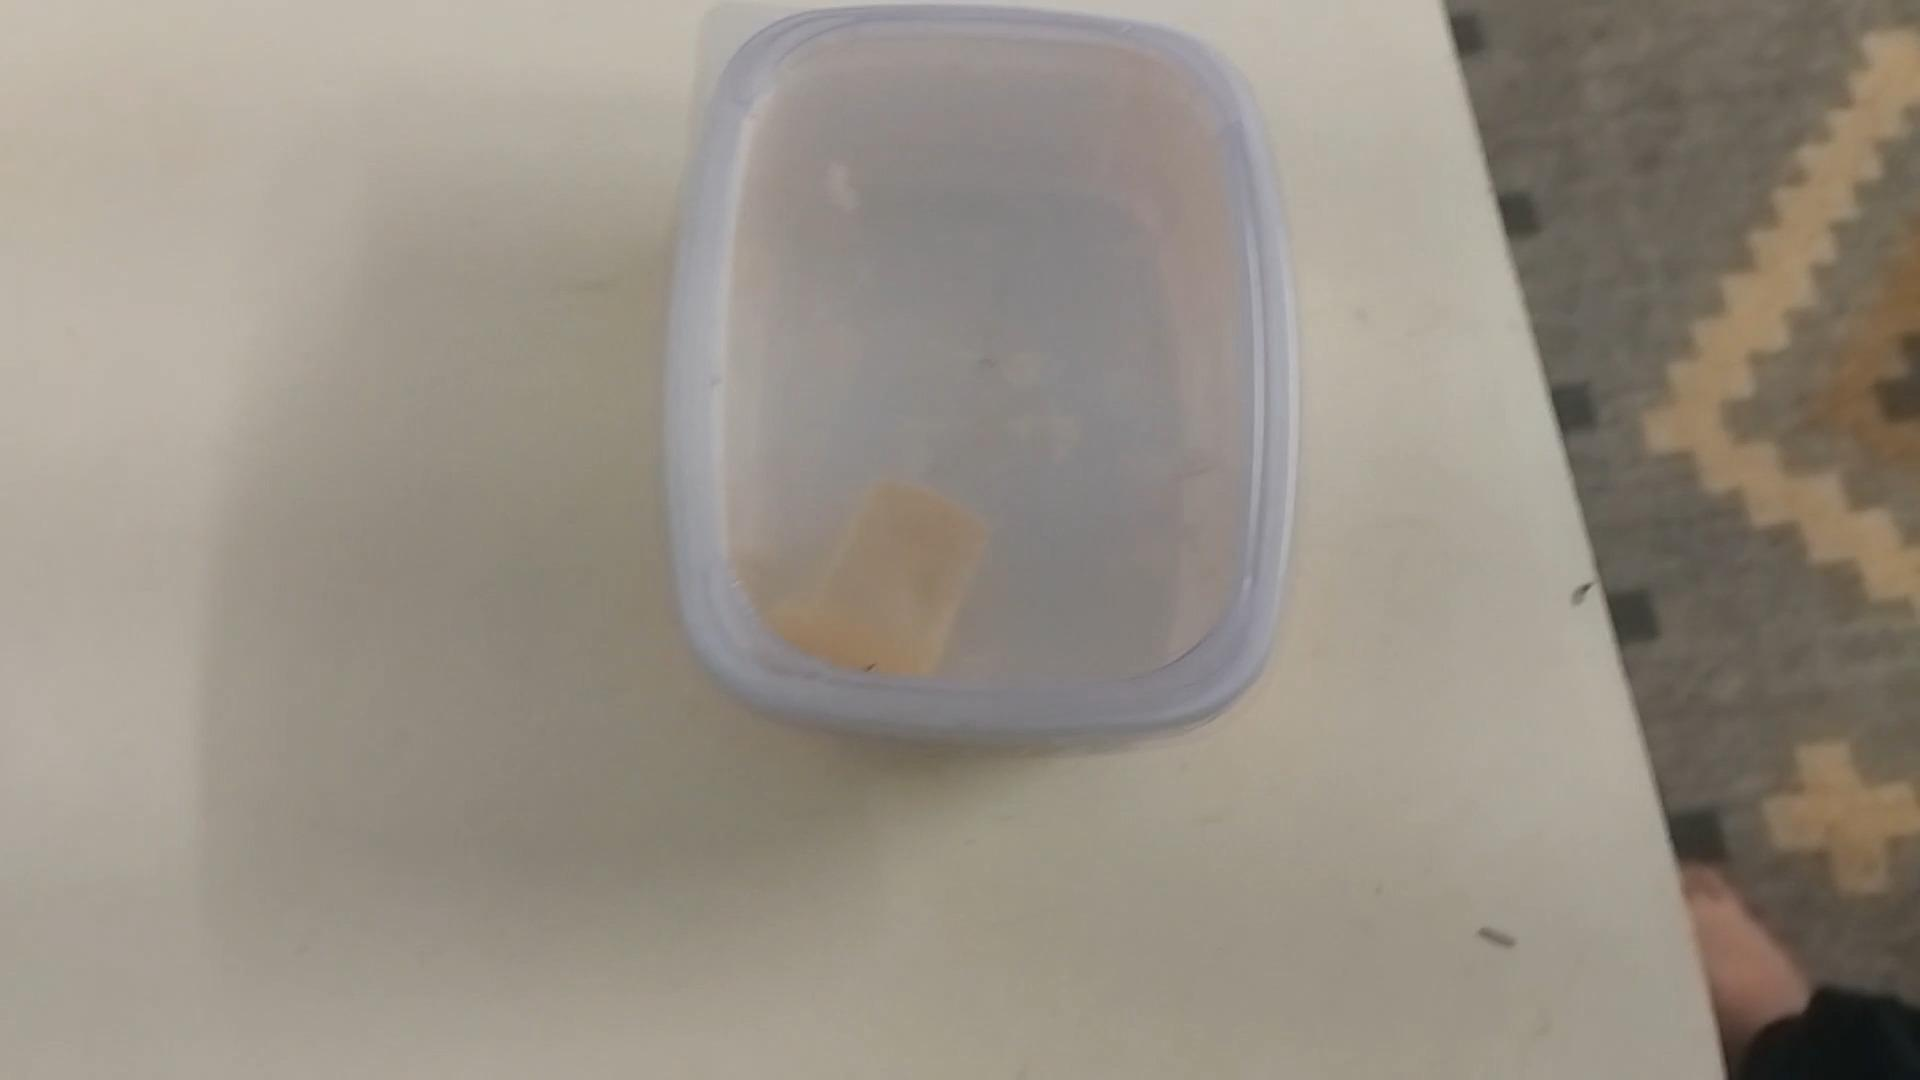butter: (666, 1, 1286, 750)
